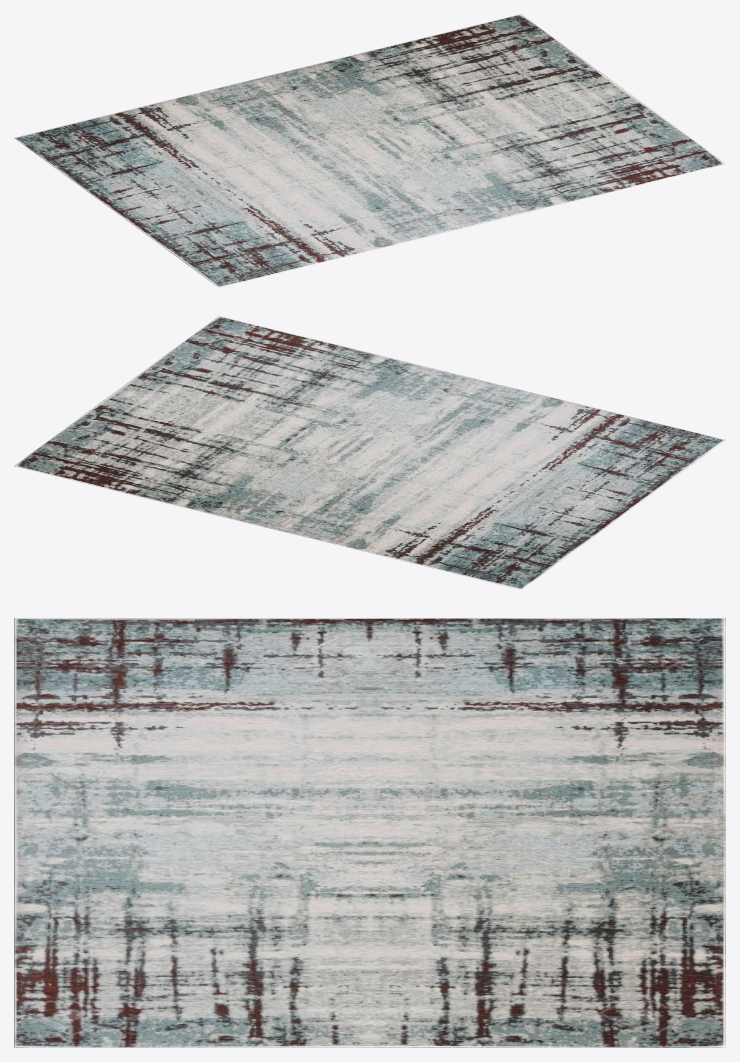
File: 3_car.glb
The picture shows the model from 3 angles, top to bottom: view 1: azimuth 30°, elevation 25°; view 2: azimuth 150°, elevation 25°; view 3: azimuth 270°, elevation 25°; orthographic projection. The views are drawn at different scales.
Parts seen in each view (by area): view 1: Plane; view 2: Plane; view 3: Plane, Plane.001.
Part boxes in pixels (x1=…): Plane: x1=14, y1=14, x2=725, y2=287; Plane: x1=14, y1=316, x2=725, y2=589; Plane: x1=14, y1=618, x2=725, y2=1047; Plane.001: x1=14, y1=618, x2=725, y2=618.
Bounding box in the file's own units: 1.79 × 0.000998 × 1.26.
1 material, 1 textured.
